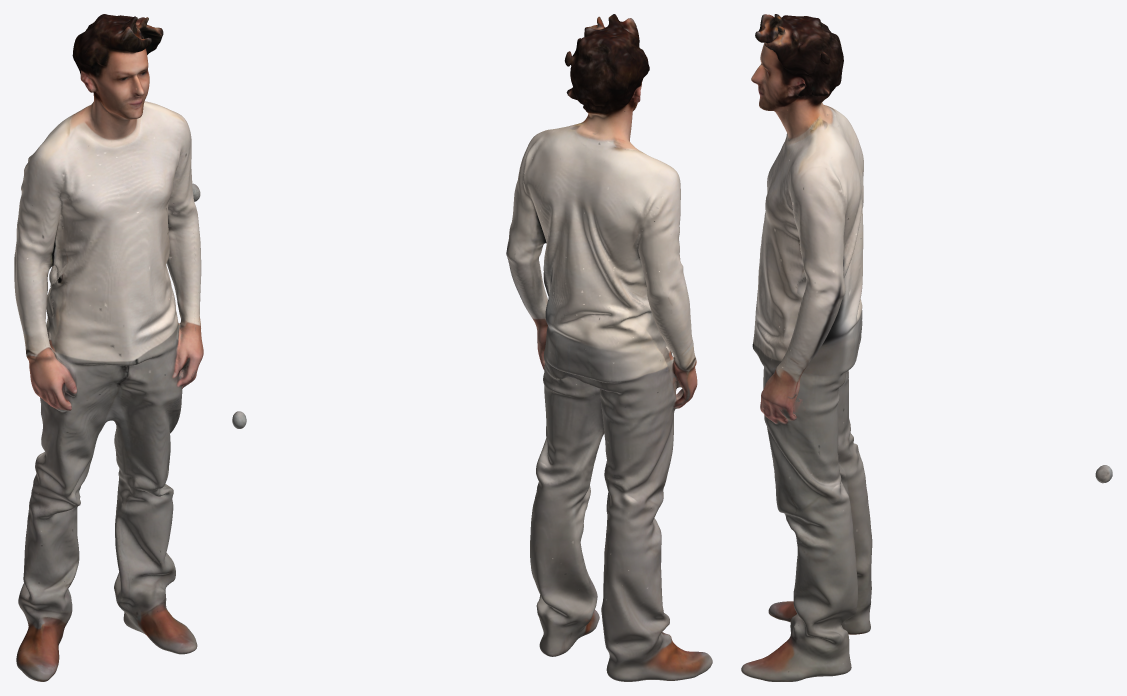
File: avatar.glb
The picture shows the model from 3 angles, left to right: view 1: azimuth 30°, elevation 25°; view 2: azimuth 150°, elevation 25°; view 3: azimuth 270°, elevation 25°; orthographic projection. The views are drawn at different scales.
Size of the model in its own units: 1.07 by 2.01 by 1.04.
Materials: 1 (1 with a texture image).
